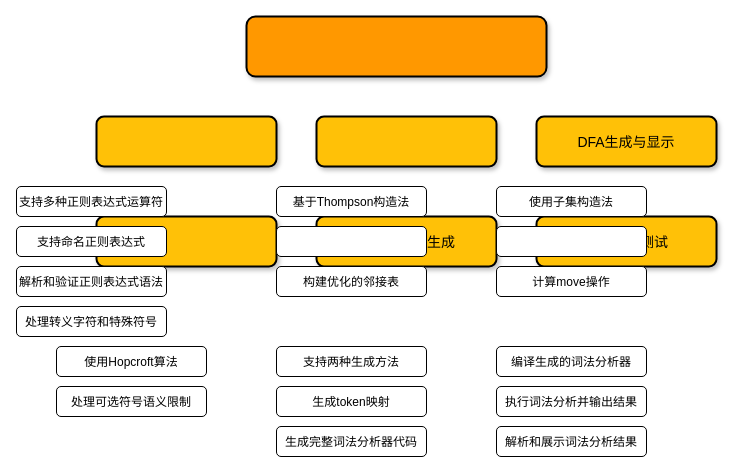
Some shapes in this 733 by 473 pixel diagram are drawn without their labels. The shapes that lost their labels are listed below. From the top down, each one's centre as x and y in pixels, then its label:
At pixel 397 47: "任务1：正则表达式引擎与词法分析".
At pixel 187 142: "正则表达式处理".
At pixel 407 142: "NFA生成与显示".
At pixel 187 242: "DFA最小化".
At pixel 351 241: "支持多种正则表达式元素".
At pixel 571 241: "计算ε-闭包".
